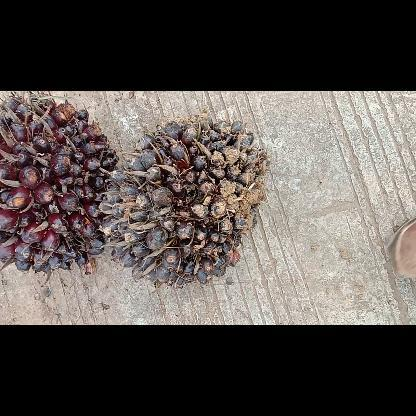TBS mentah: (96, 113, 270, 287), (0, 90, 120, 276)
